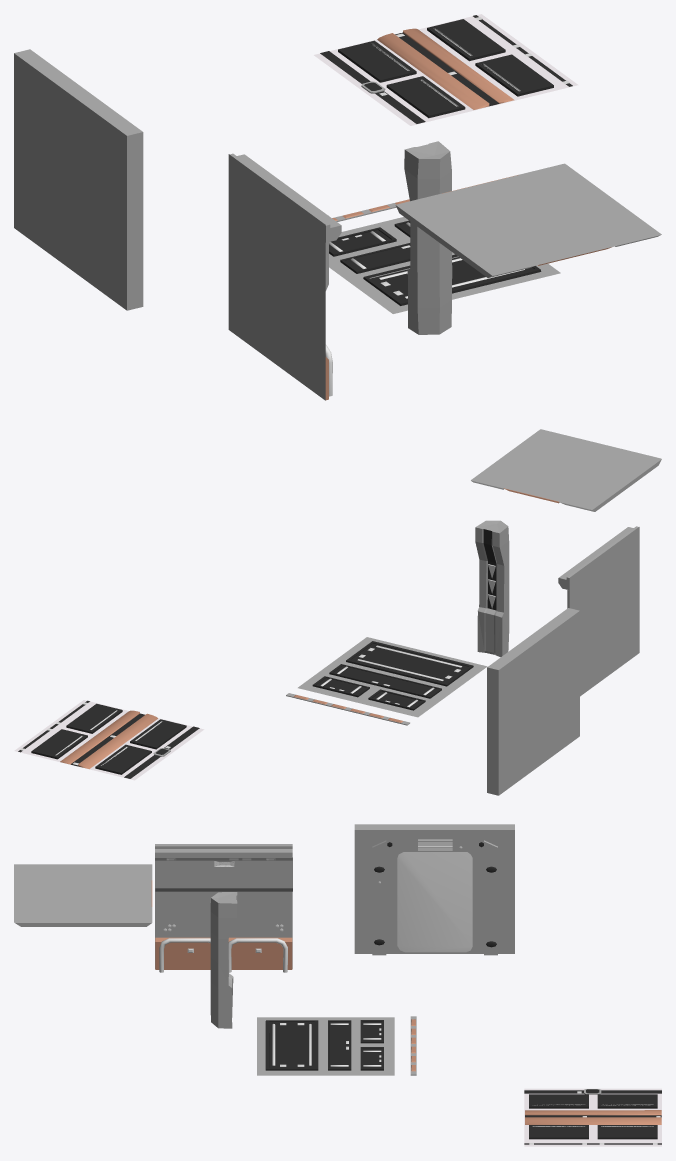
Rendered from Map_low_polygonal_COLORED.fbx.
3 renders of one model, top to bottom at view 1: azimuth 30°, elevation 25°; view 2: azimuth 150°, elevation 25°; view 3: azimuth 270°, elevation 25°, orthographic. The views are drawn at different scales.
Parts seen in each view (by area): view 1: wall, Plane.001, Plane.002, Sphere.023, Plane.004, Plane.003, Cylinder.012, Cube.015, Cube.044, Cube.043, Cube.038, Cylinder.011 (+8 smaller); view 2: wall, Plane.002, Plane.001, Sphere.023, Plane.003, Plane.004, Cube.021, Cylinder.012, Cube.016, Cube.015, Torus.007, Cube.044 (+6 smaller); view 3: wall, Plane.002, Cylinder.008, Plane.001, Cube.100, Plane.003, Cube, Sphere.023, Plane.004, Cylinder, Cube.021, colonne_L (+12 smaller).
Part boxes in pixels (x1,y1,x2,y2): wall: (14,49,143,310); Plane.001: (228,154,325,400); Plane.002: (397,164,661,275); Sphere.023: (404,141,452,334); Plane.004: (314,14,578,125); Plane.003: (329,217,560,313); Cylinder.012: (377,33,489,109); Cube.015: (338,40,416,82); Cube.044: (427,19,505,61); Cube.043: (386,76,465,118); Cube.038: (475,54,553,96); Cylinder.011: (403,28,514,103); wall: (487,608,579,795); Plane.002: (471,429,661,509); Plane.001: (570,527,639,696); Sphere.023: (475,520,509,657); Plane.003: (298,637,487,717); Plane.004: (14,700,204,780); Cube.021: (351,643,468,682); Cylinder.012: (78,713,157,769); Cube.016: (333,666,437,695); Cube.015: (95,744,151,774); Torus.007: (346,641,473,686); Cube.044: (31,729,87,759); wall: (354,824,514,953); Plane.002: (14,864,151,922); Cylinder.008: (397,852,472,952); Plane.001: (155,844,292,968); Cube.100: (155,857,292,891); Plane.003: (257,1017,394,1075); Cube: (155,937,292,969); Sphere.023: (210,892,237,1028); Plane.004: (524,1088,661,1146); Cylinder: (155,845,292,860); Cube.021: (269,1022,314,1067); colonne_L: (372,840,386,955).
Bounding box in the file's own units: 1528 × 464 × 2117.
